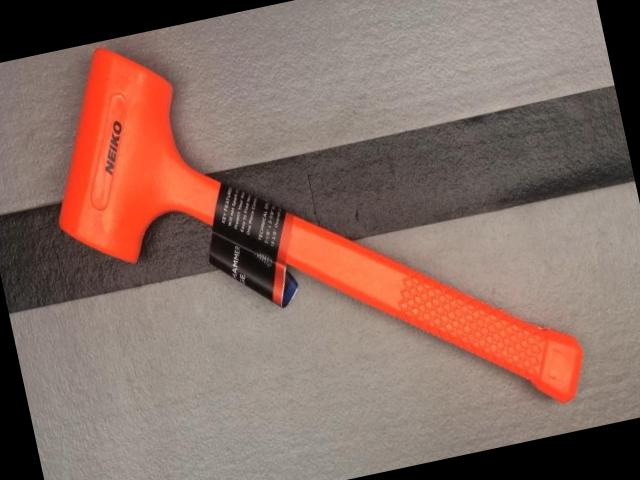hammer: (22, 0, 591, 480)
